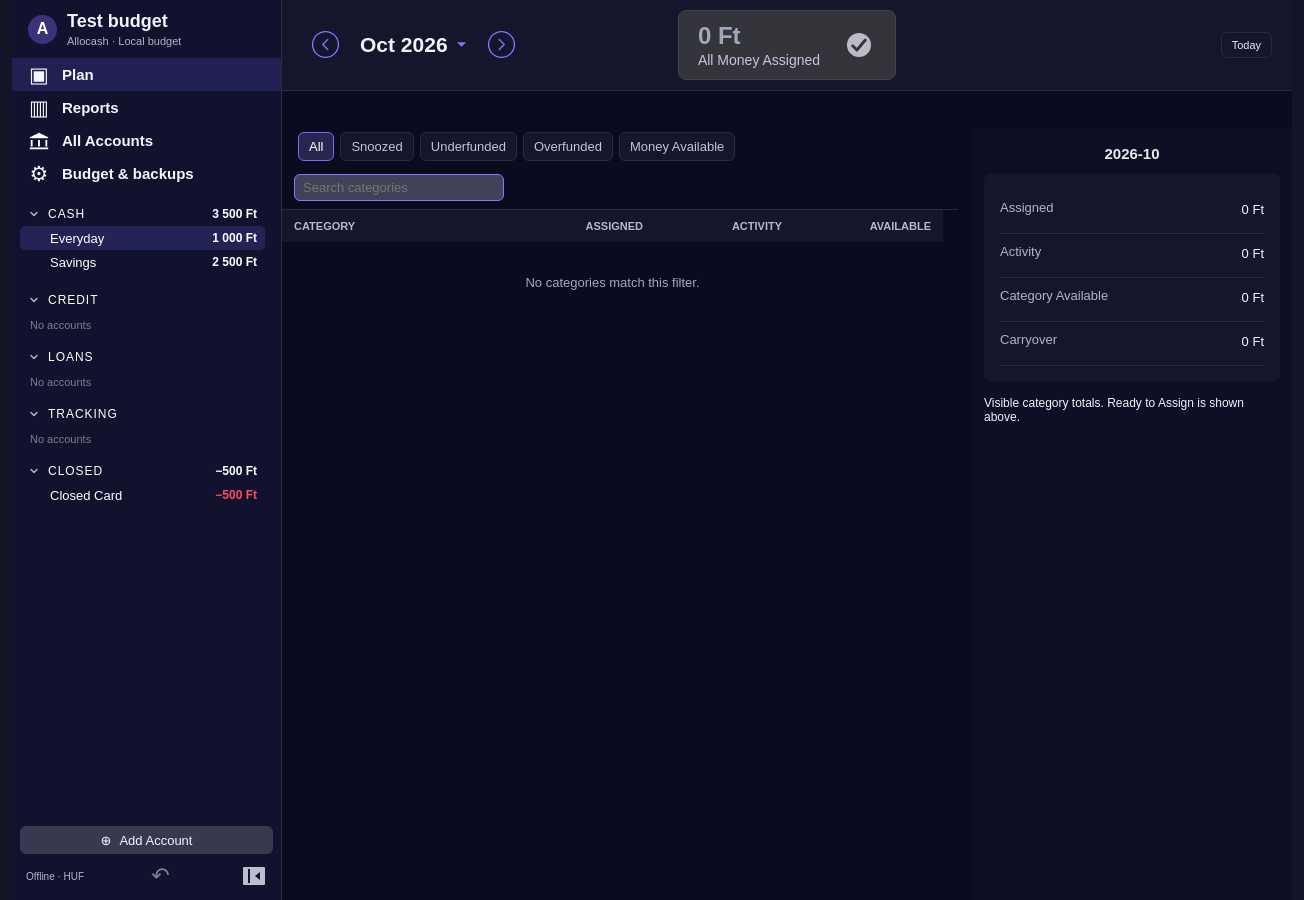
Test: edits a closed-account row using its real owner and focuses its Account control
Click the button titled "Accounts" at (146, 140), box [12,124,281,157]
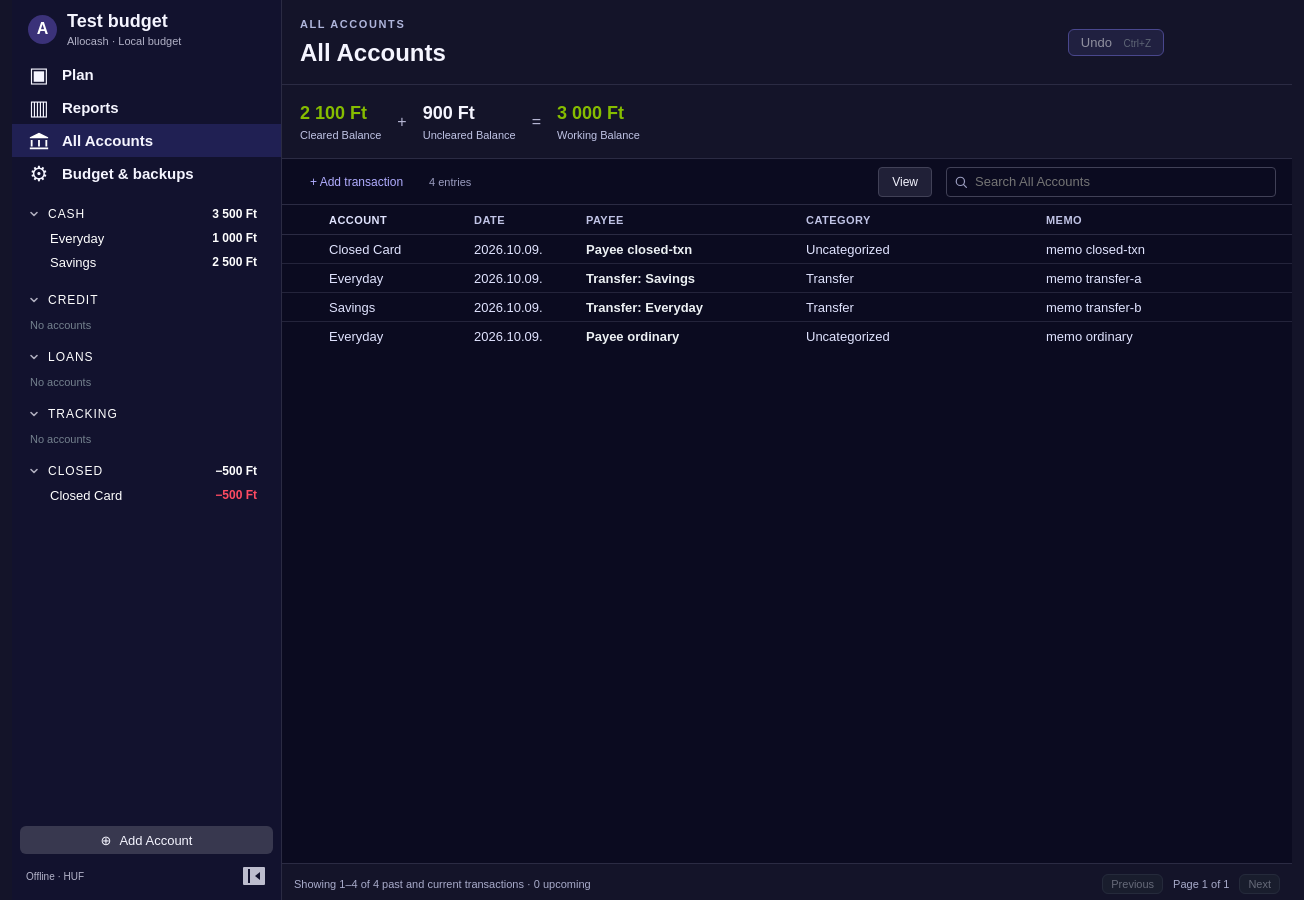
Double-click the cell "Closed Card" at (394, 249), box [322,234,467,264]
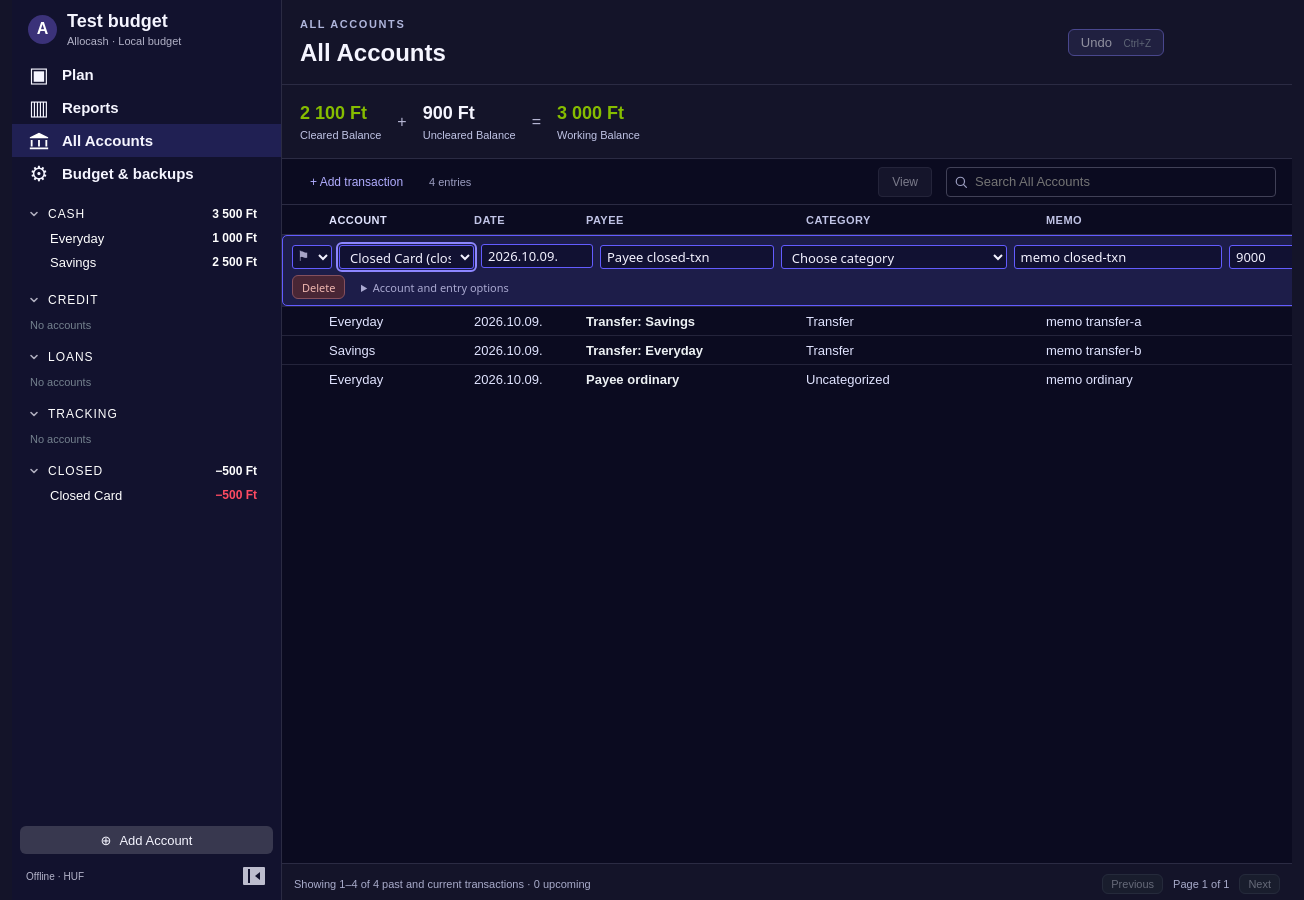
Result: the dropdown labelled "Account" shows "Closed Card (closed)" at [339,245,474,269]
